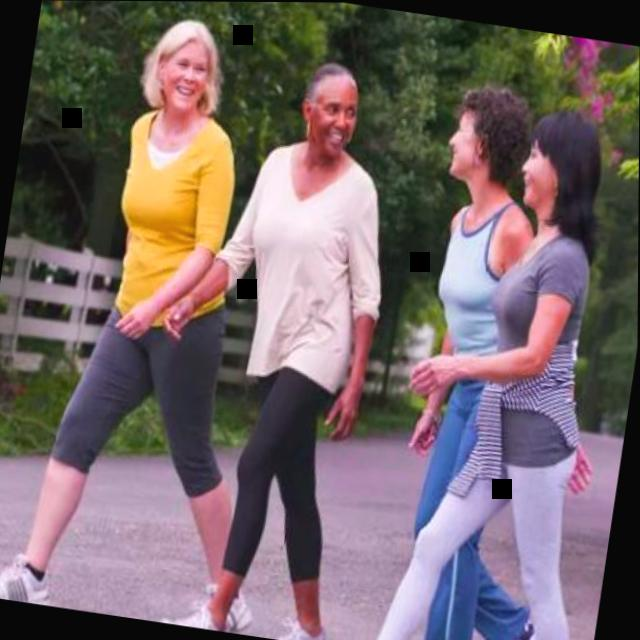NO-Mask: (308, 73, 363, 163), (160, 40, 213, 116), (515, 142, 560, 209), (444, 109, 485, 182)
